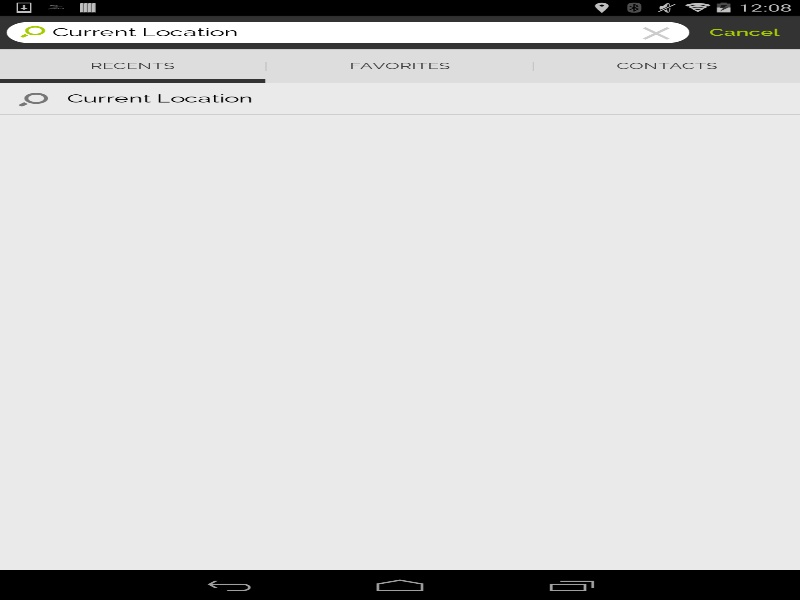Input: (52, 21, 622, 43)
